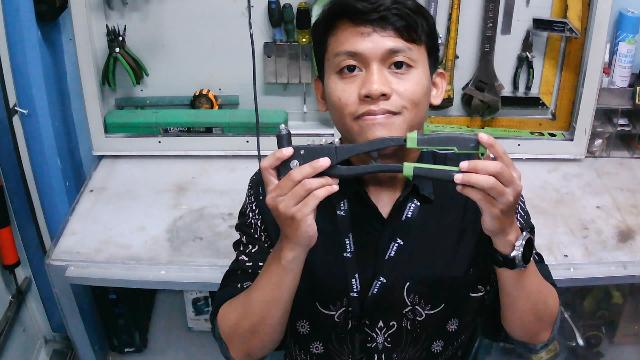tang_rivet: (275, 119, 496, 192)
